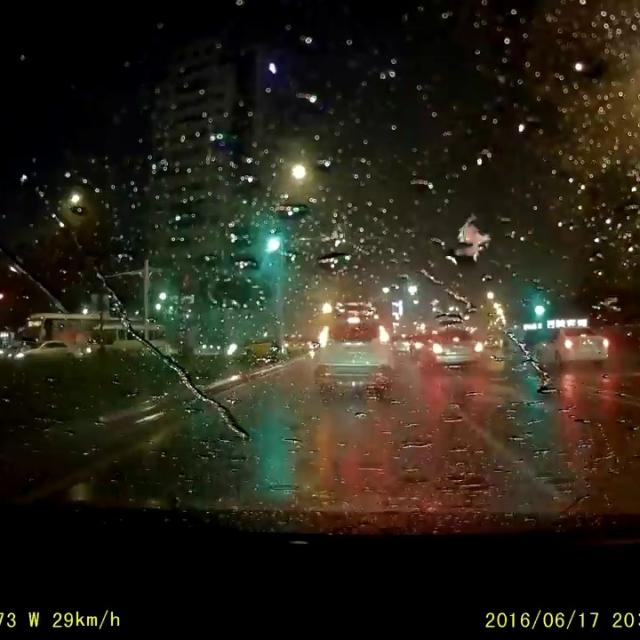Car: (307, 316, 394, 399), (86, 320, 176, 359), (534, 323, 610, 369), (419, 326, 482, 369), (12, 337, 83, 367), (409, 331, 435, 361), (389, 330, 418, 355)
